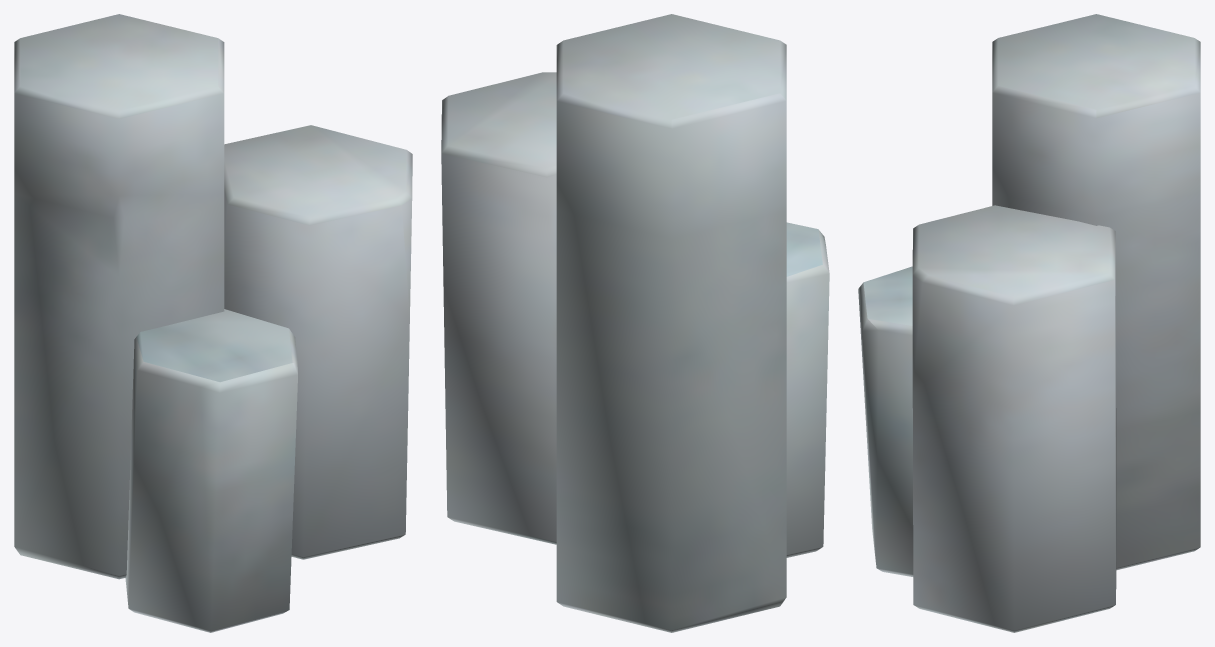
The model's file is P_RockHexic_Rocks01.obj.
3 renders of one model, left to right at view 1: azimuth 30°, elevation 25°; view 2: azimuth 150°, elevation 25°; view 3: azimuth 270°, elevation 25°, orthographic. The views are drawn at different scales.
Size of the model in its own units: 8.05 by 10.48 by 6.74.
